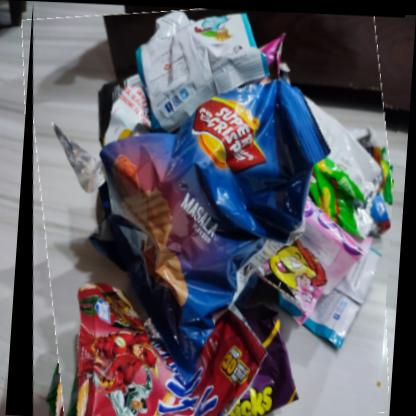Garbage: (12, 1, 408, 416)
